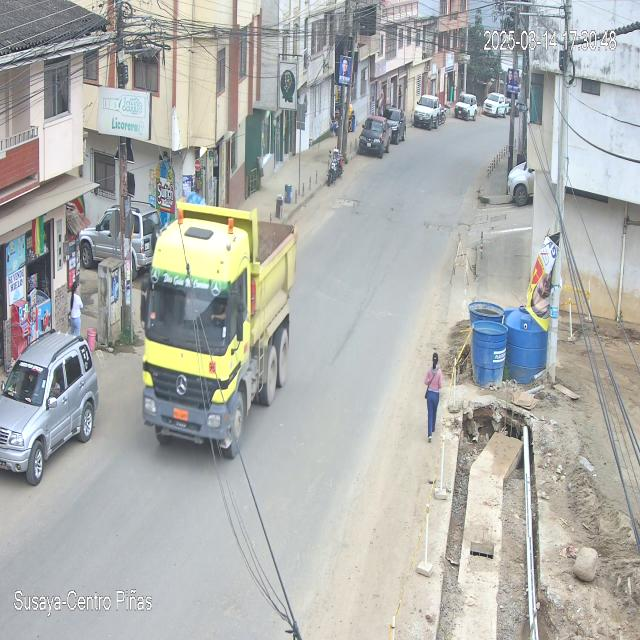TRUCK: (143, 202, 297, 449)
